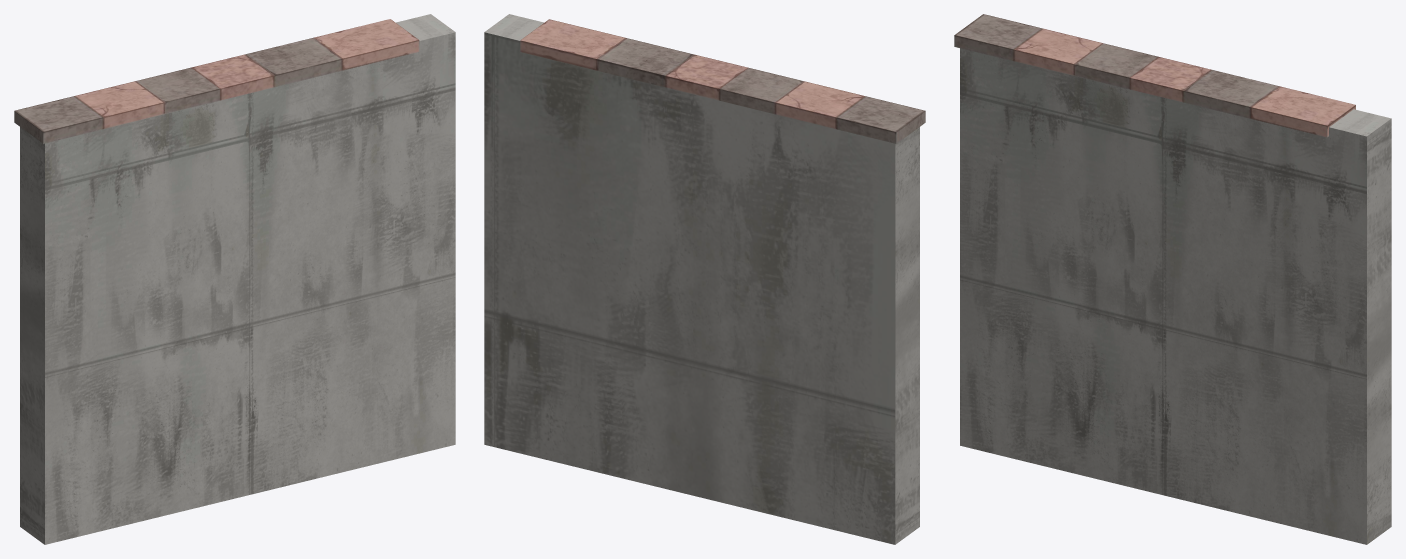
Rendered from wall_01.fbx.
3 views of the same model, side by side, from view 1: azimuth 30°, elevation 25°; view 2: azimuth 150°, elevation 25°; view 3: azimuth 330°, elevation 25° (orthographic).
Visible parts, largest first — view 1: Object024; view 2: Object024; view 3: Object024.
Part boxes in pixels (<box>): Object024: <box>14,14,455,544</box>; Object024: <box>484,14,925,544</box>; Object024: <box>954,14,1391,544</box>.
Size of the model in its own units: 720 by 690 by 88.1.
